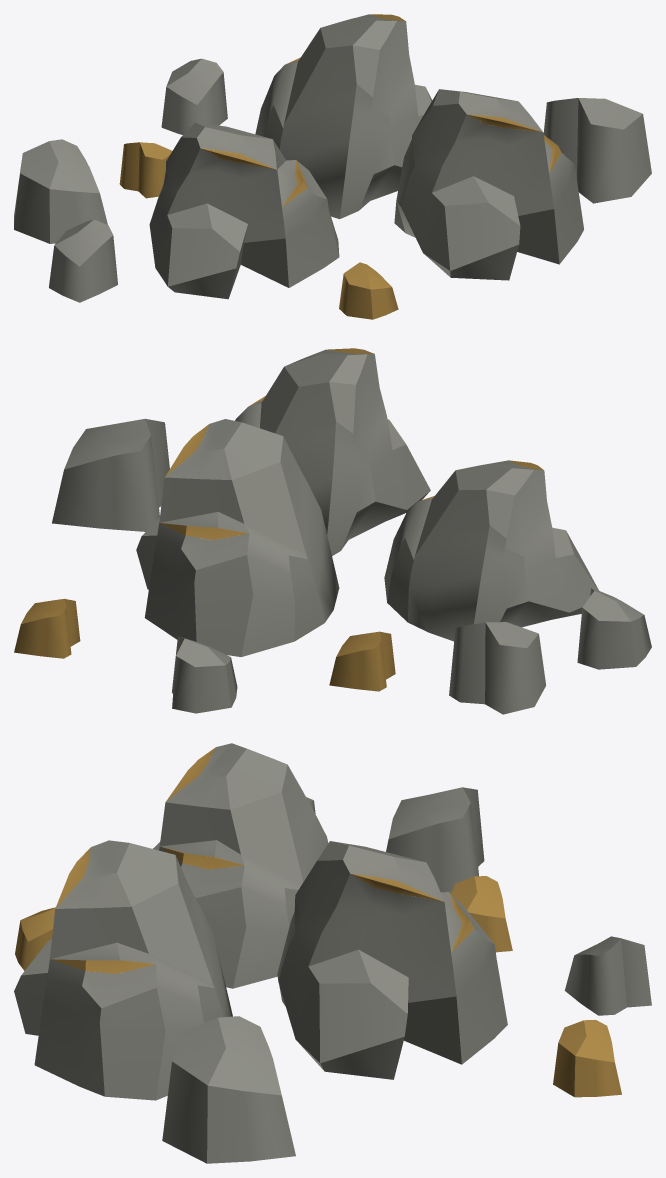
The model's file is goldRocks.glb.
3 renders of one model, top to bottom at view 1: azimuth 30°, elevation 25°; view 2: azimuth 150°, elevation 25°; view 3: azimuth 270°, elevation 25°, orthographic. The views are drawn at different scales.
Visible parts, largest first — view 1: Resource_Gold_3; view 2: Resource_Gold_3; view 3: Resource_Gold_3.
Boxes of the visible parts, <box> form: Resource_Gold_3: <box>14,14,651,319</box>; Resource_Gold_3: <box>14,348,651,714</box>; Resource_Gold_3: <box>14,743,651,1163</box>.
Size of the model in its own units: 2.04 by 0.5657 by 1.67.
